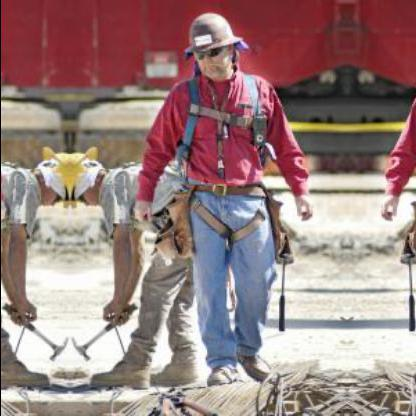Helmet: (181, 10, 240, 78), (70, 142, 100, 212), (36, 142, 66, 212)
